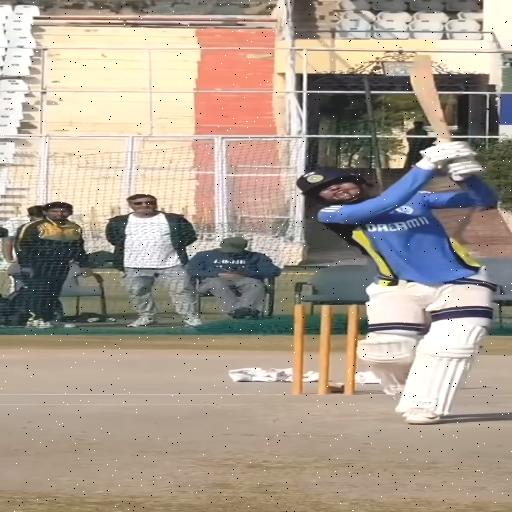Cricket bat: (410, 55, 451, 143)
